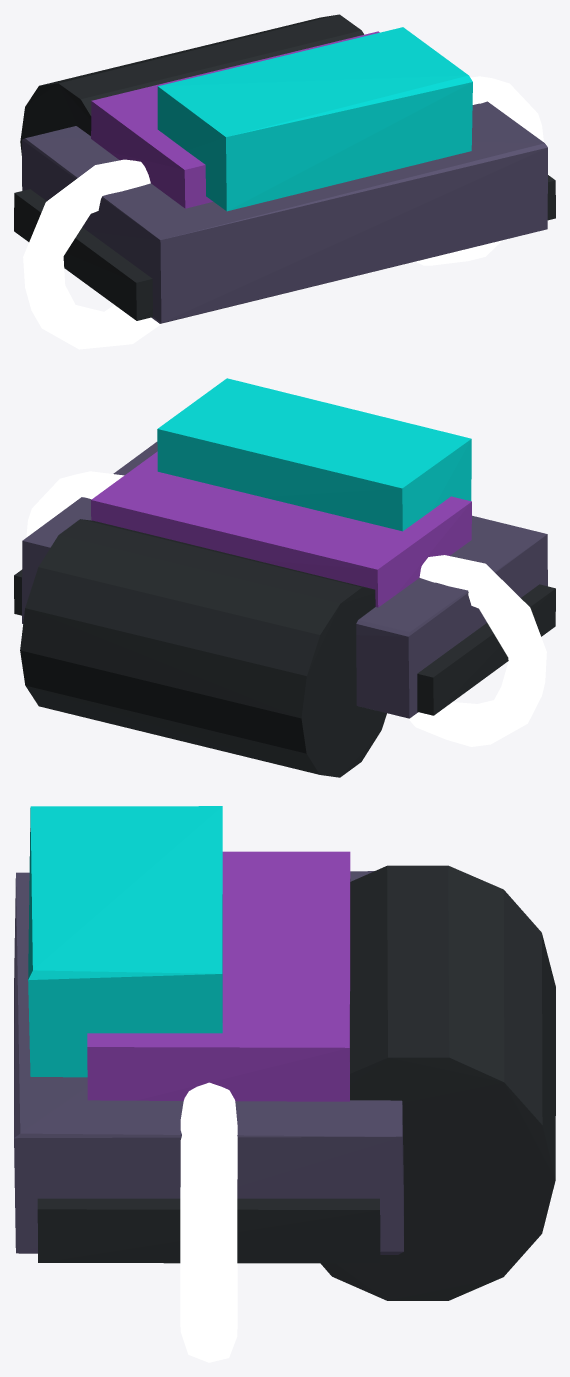
File: SM_Chronolegion_CH_ProbabilistHarvester_LOD2.fbx
The picture shows the model from 3 angles, top to bottom: view 1: azimuth 30°, elevation 25°; view 2: azimuth 150°, elevation 25°; view 3: azimuth 270°, elevation 25°; orthographic projection. The views are drawn at different scales.
Visible parts, largest first — view 1: LOD02_SM_Chronolegion_CH_ProbabilistHarvester; view 2: LOD02_SM_Chronolegion_CH_ProbabilistHarvester; view 3: LOD02_SM_Chronolegion_CH_ProbabilistHarvester.
Boxes of the visible parts, bbox=[...] form: LOD02_SM_Chronolegion_CH_ProbabilistHarvester: bbox=[14, 14, 555, 349]; LOD02_SM_Chronolegion_CH_ProbabilistHarvester: bbox=[14, 378, 555, 777]; LOD02_SM_Chronolegion_CH_ProbabilistHarvester: bbox=[14, 806, 555, 1362].
Bounding box in the file's own units: 587 × 379 × 266.
